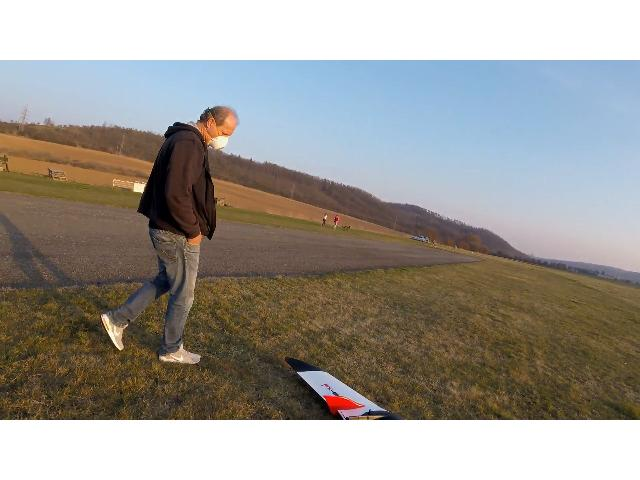Anti-Drone: (272, 348, 448, 420)
